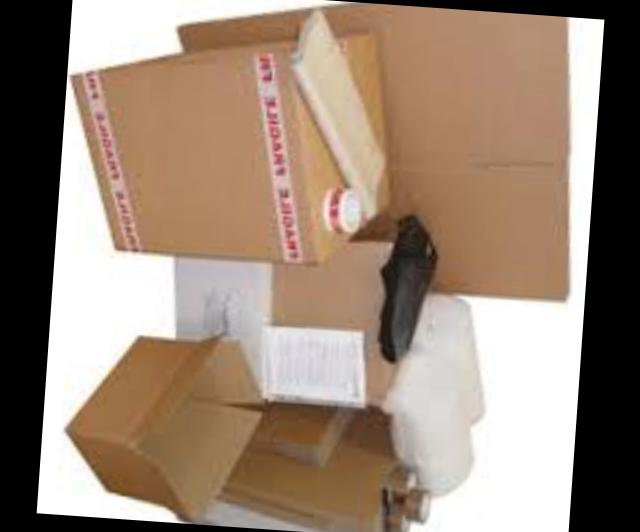cardboard paper: (79, 14, 389, 266)
